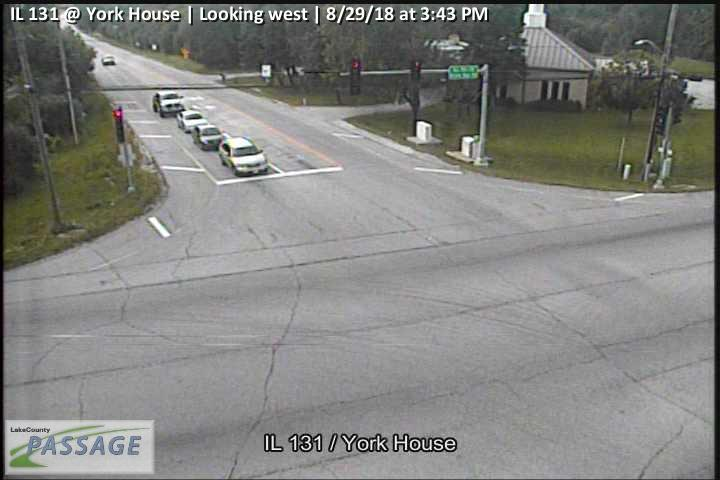Sedan: (218, 135, 268, 177), (151, 88, 186, 118), (191, 123, 226, 150), (176, 108, 209, 133)
